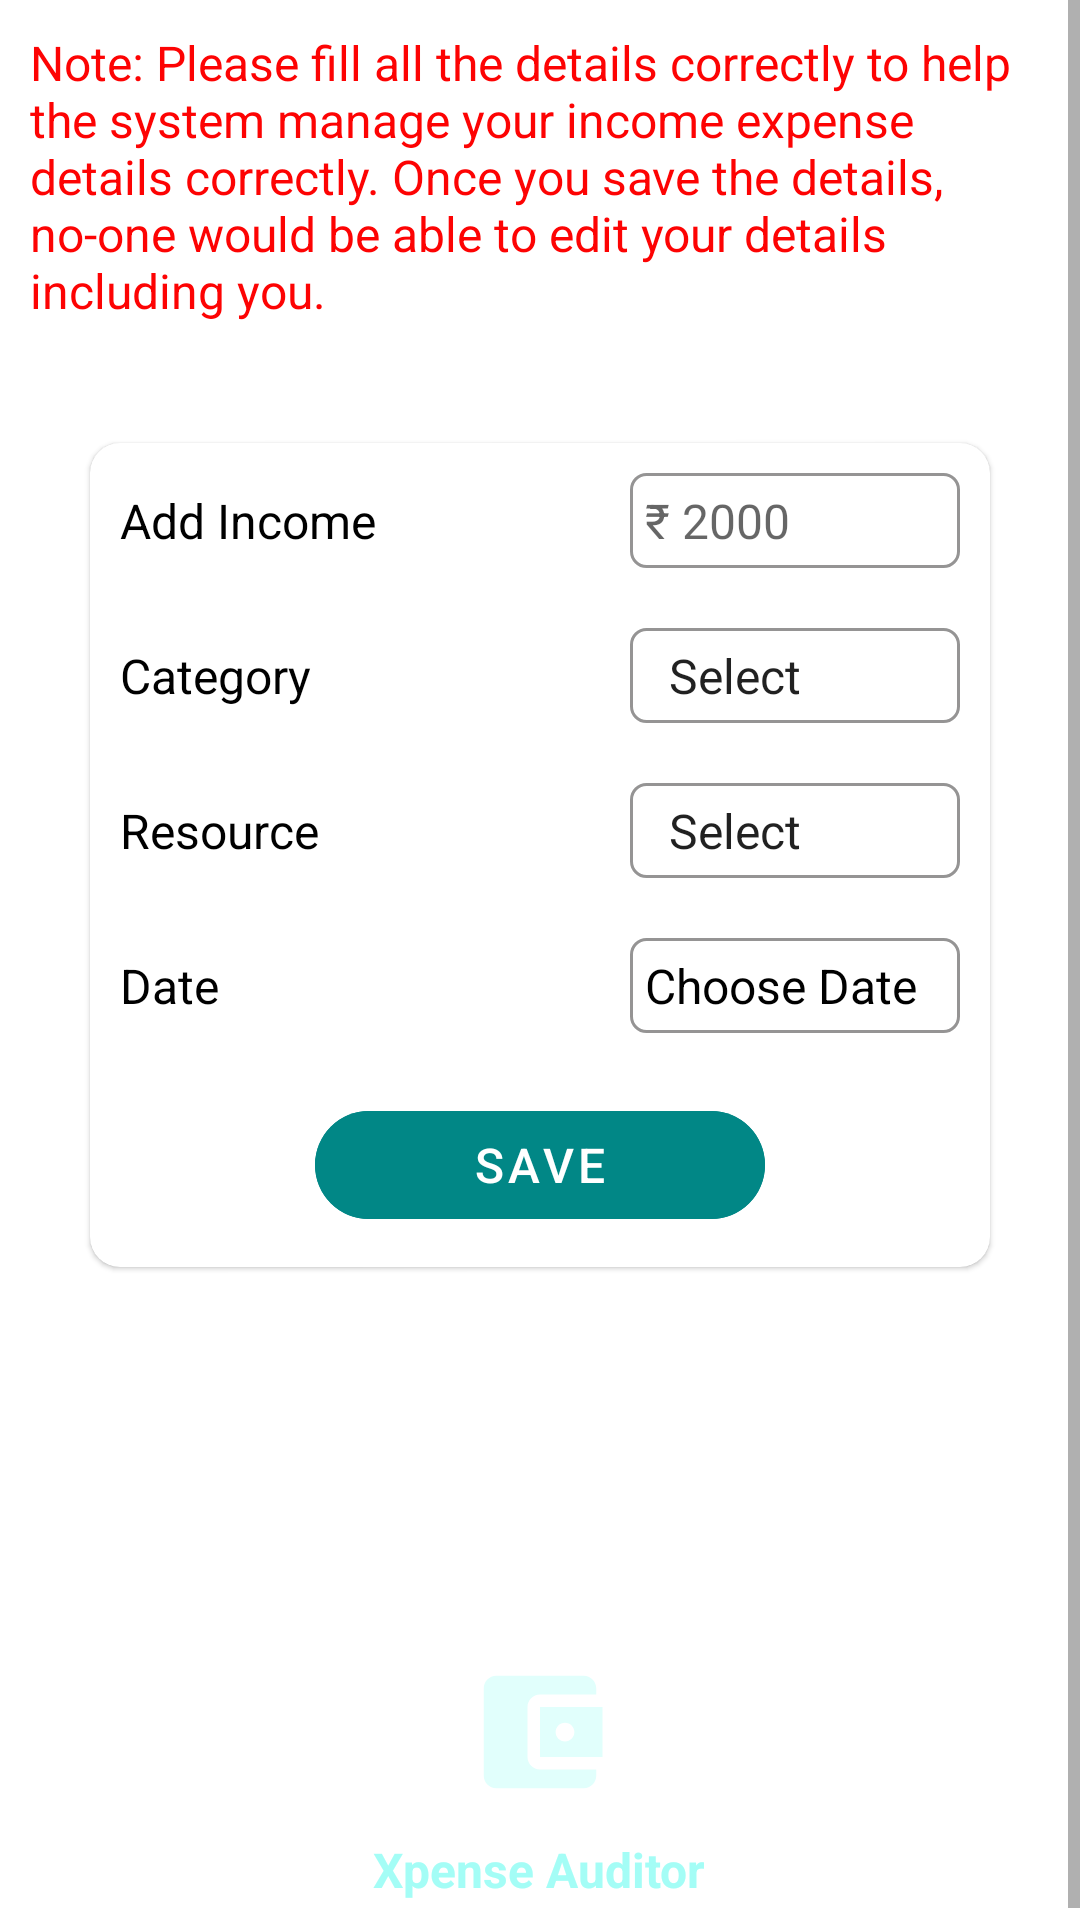

Named icons in this screenshot (1080*1920) and their centers, [x,y]:
wallet: [543,1732]
